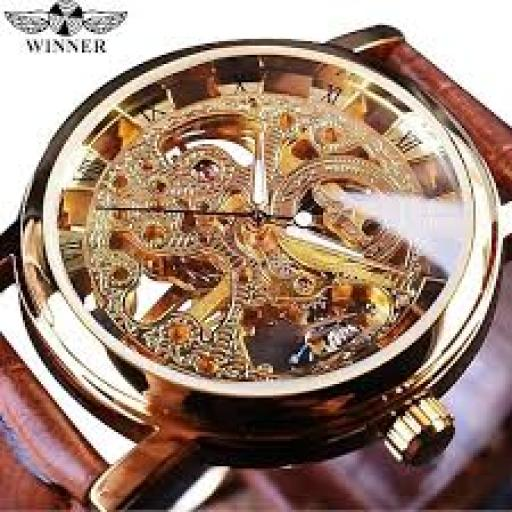KolSaati: (18, 28, 496, 466)
